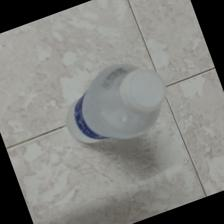Aquafina: (65, 62, 170, 163)
